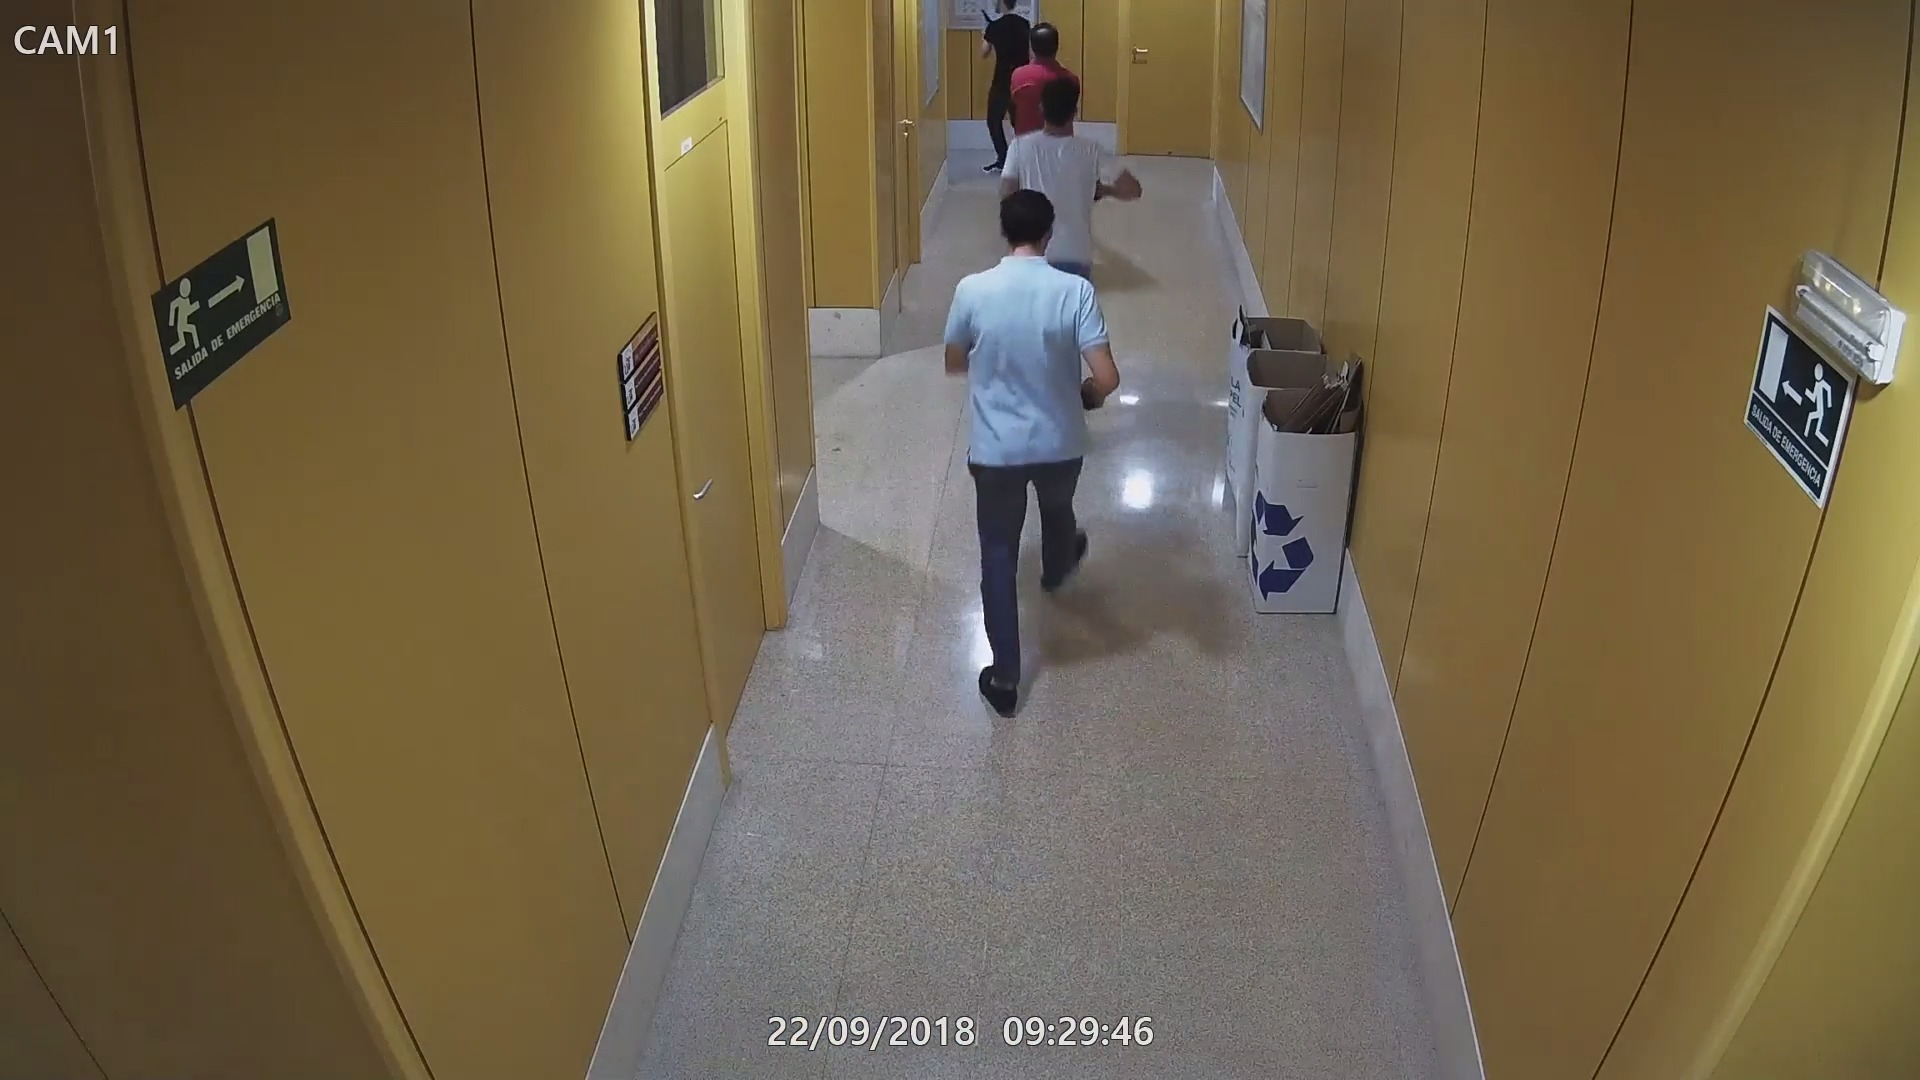Handgun: (971, 3, 998, 33)
